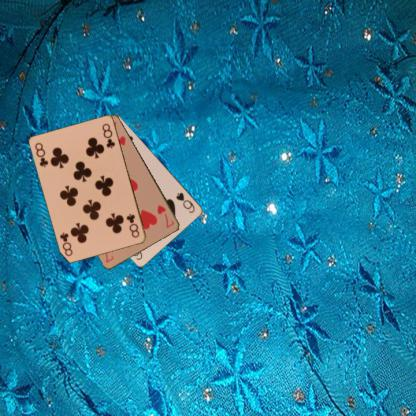6s: (173, 190, 196, 214)
7h: (154, 203, 176, 230)
8c: (32, 140, 50, 168), (124, 211, 141, 239)
